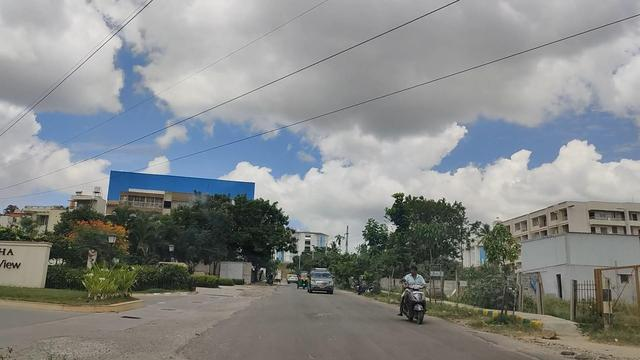RoadDamages: (35, 325, 118, 360), (202, 296, 266, 333), (479, 337, 545, 360), (304, 300, 356, 328), (159, 336, 213, 360)
